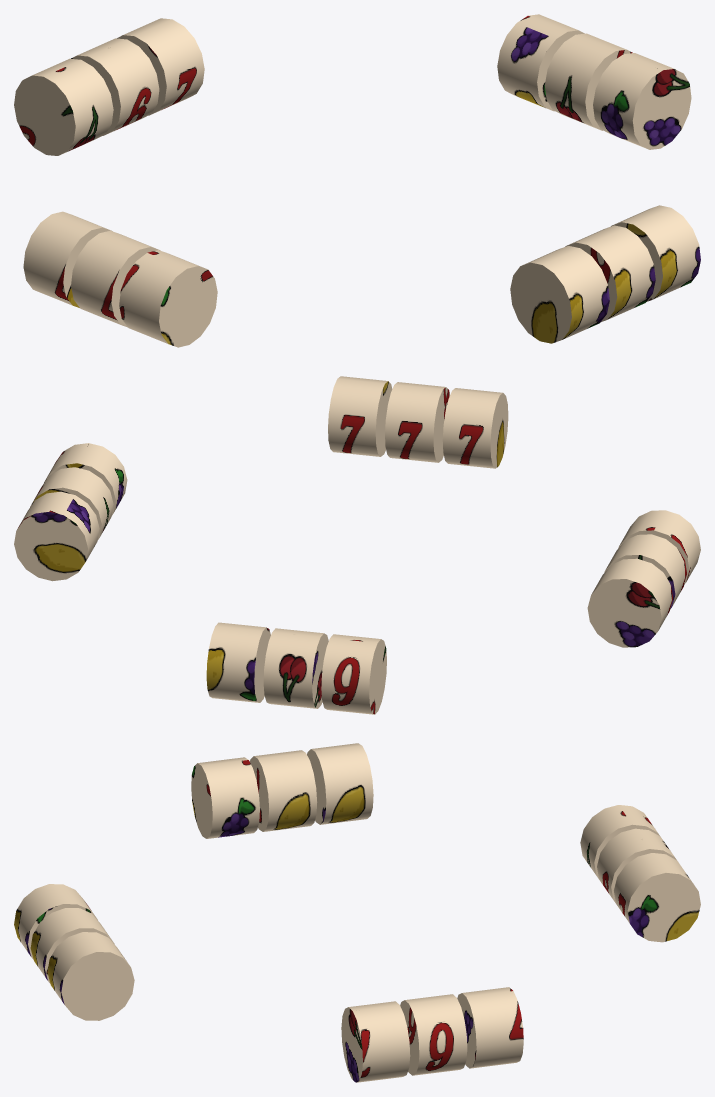
File: arena owoce.fbx
3 views of the same model, one above another, from view 1: azimuth 30°, elevation 25°; view 2: azimuth 150°, elevation 25°; view 3: azimuth 270°, elevation 25° (orthographic). The views are drawn at different scales.
Parts seen in each view (by area): view 1: Cylinder.011; view 2: Cylinder.011; view 3: Cylinder.011.
Part boxes in pixels (x1=…): Cylinder.011: x1=14, y1=14, x2=700, y2=347; Cylinder.011: x1=14, y1=376, x2=700, y2=714; Cylinder.011: x1=14, y1=743, x2=700, y2=1082.
Size of the model in its own units: 571 by 5213 by 5133.
1 material, 1 textured.
